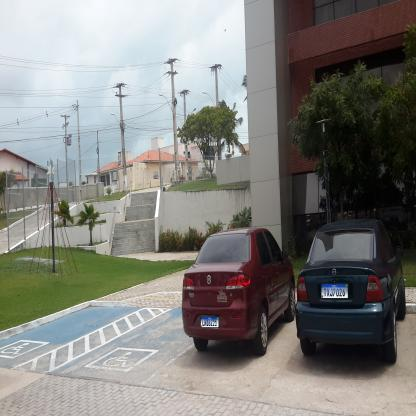PlacaM: (321, 283, 348, 299), (201, 316, 219, 328)
